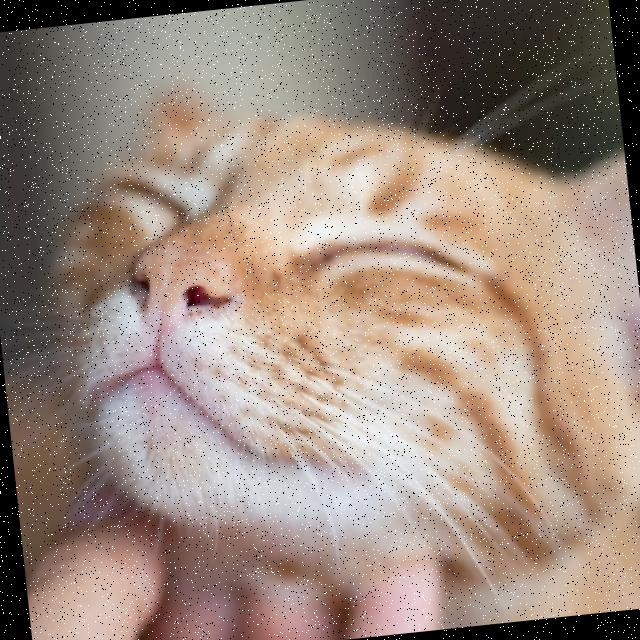Happy: (65, 92, 538, 522)
